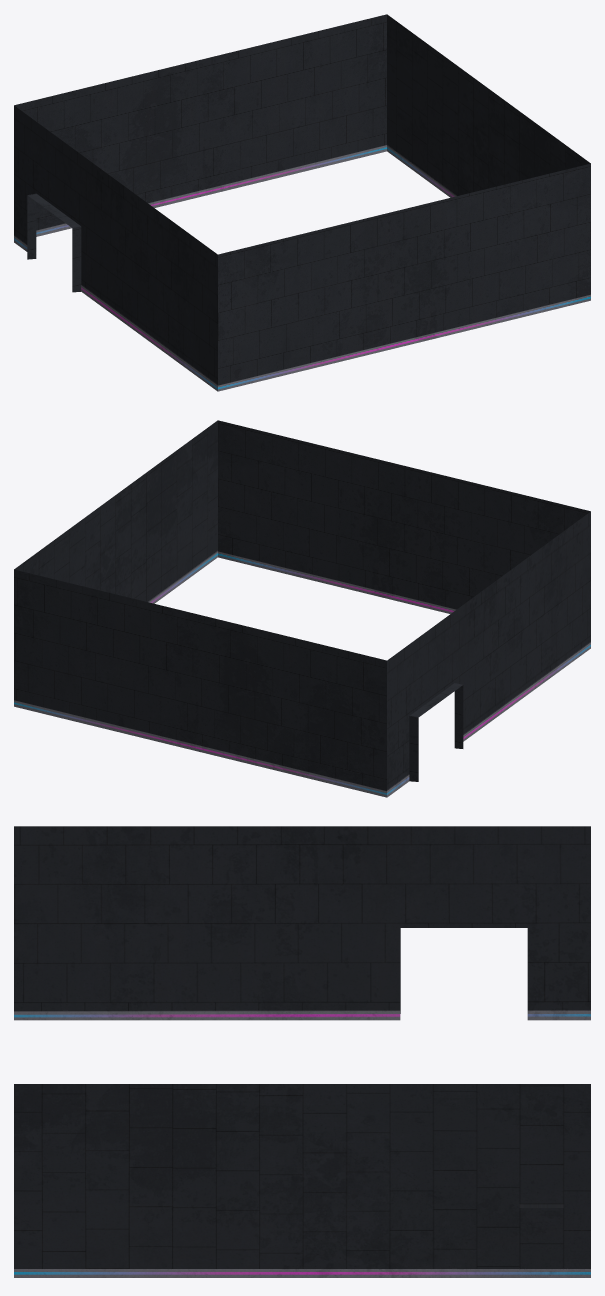
File: innerWall2.fbx
3 views of the same model, one above another, from view 1: azimuth 30°, elevation 25°; view 2: azimuth 150°, elevation 25°; view 3: azimuth 270°, elevation 25° (orthographic). The views are drawn at different scales.
Parts seen in each view (by area): view 1: innerWall_uv, Object001; view 2: innerWall_uv; view 3: innerWall_uv, Object001.
Boxes of the visible parts, box(x1,y1,x2,y2) form: innerWall_uv: box(14, 14, 590, 391); Object001: box(396, 106, 412, 169); innerWall_uv: box(14, 420, 590, 797); innerWall_uv: box(14, 826, 590, 1277); Object001: box(519, 1208, 563, 1277).
Size of the model in its own units: 3192 by 1079 by 2909.
